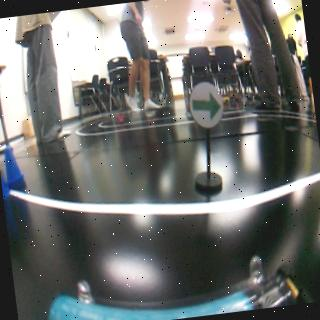right: (186, 79, 228, 127)
